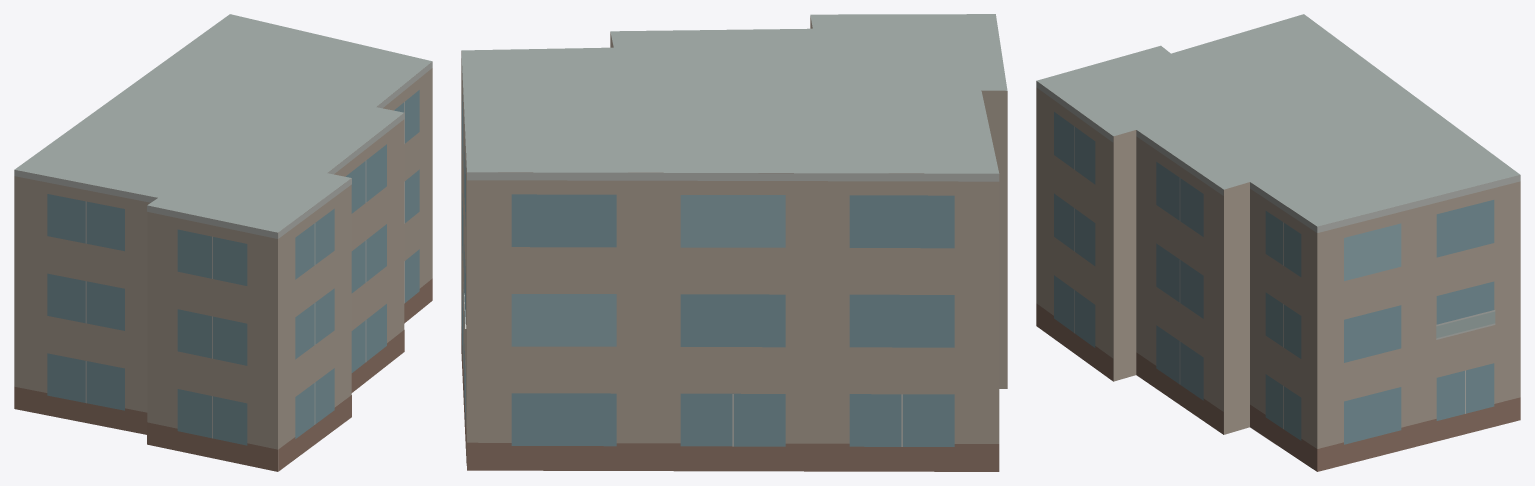
The model's file is survey-upis-32490616.glb.
The picture shows the model from 3 angles, left to right: view 1: azimuth 30°, elevation 25°; view 2: azimuth 150°, elevation 25°; view 3: azimuth 270°, elevation 25°; orthographic projection. The views are drawn at different scales.
Visible parts, largest first — view 1: survey-upis-32490616.tmp; view 2: survey-upis-32490616.tmp; view 3: survey-upis-32490616.tmp.
Boxes of the visible parts, <box> form: survey-upis-32490616.tmp: <box>14,14,432,471</box>; survey-upis-32490616.tmp: <box>461,14,1007,471</box>; survey-upis-32490616.tmp: <box>1036,14,1520,471</box>.
Bounding box in the file's own units: 17.02 × 9.15 × 16.38.
